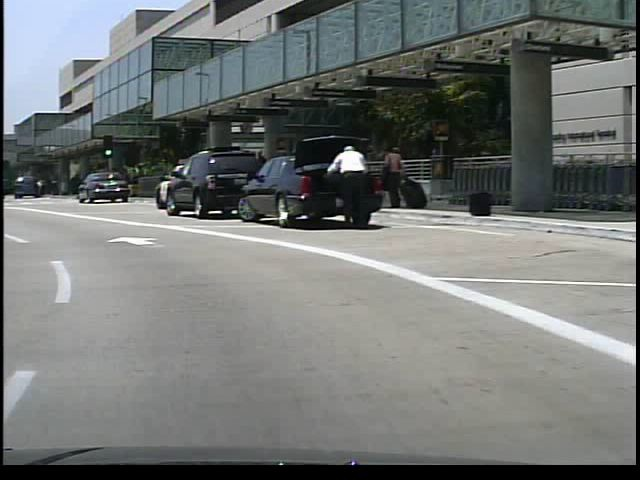person: (319, 140, 368, 232), (375, 144, 398, 212), (377, 142, 398, 213)
